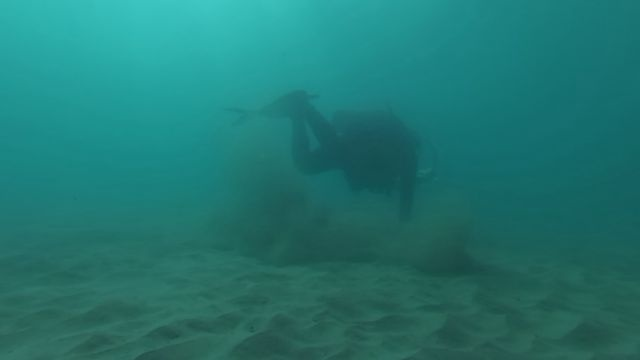Diver: (219, 77, 442, 235)
Hand: (392, 212, 416, 235)
